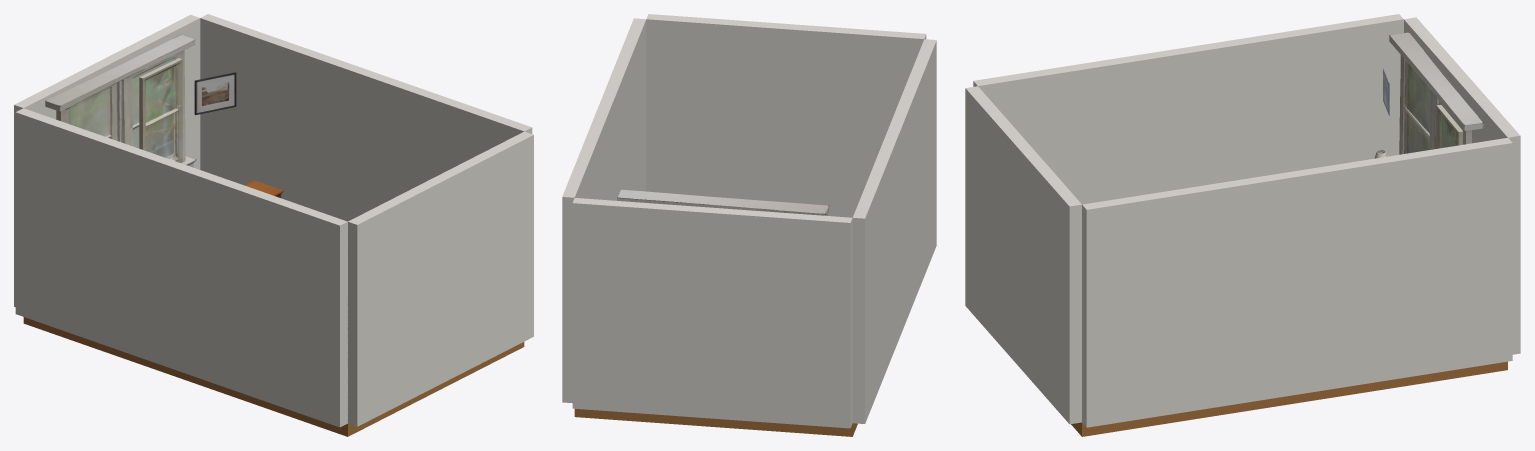
Rendered from stage2.glb.
3 views of the same model, side by side, from view 1: azimuth 30°, elevation 25°; view 2: azimuth 150°, elevation 25°; view 3: azimuth 270°, elevation 25° (orthographic). The views are drawn at different scales.
Parts seen in each view (by area): view 1: Wall_01, geometry_0.005, geometry_0.007, Floor, geometry_0.002; view 2: Wall_01, Floor, geometry_0.005; view 3: Wall_01, geometry_0.005, Floor, geometry_0.007.
Part boxes in pixels (x1,y1,x2,y2): Wall_01: (14, 14, 533, 427); geometry_0.005: (45, 34, 196, 167); geometry_0.007: (139, 58, 182, 162); Floor: (23, 317, 524, 436); geometry_0.002: (194, 72, 236, 115); Wall_01: (562, 14, 936, 428); Floor: (574, 409, 857, 436); geometry_0.005: (617, 189, 829, 215); Wall_01: (965, 14, 1520, 427); geometry_0.005: (1389, 32, 1483, 154); Floor: (1071, 361, 1507, 436); geometry_0.007: (1436, 105, 1463, 148).
Size of the model in its own units: 8.67 by 4.8 by 10.38.
12 materials, 10 textured.
